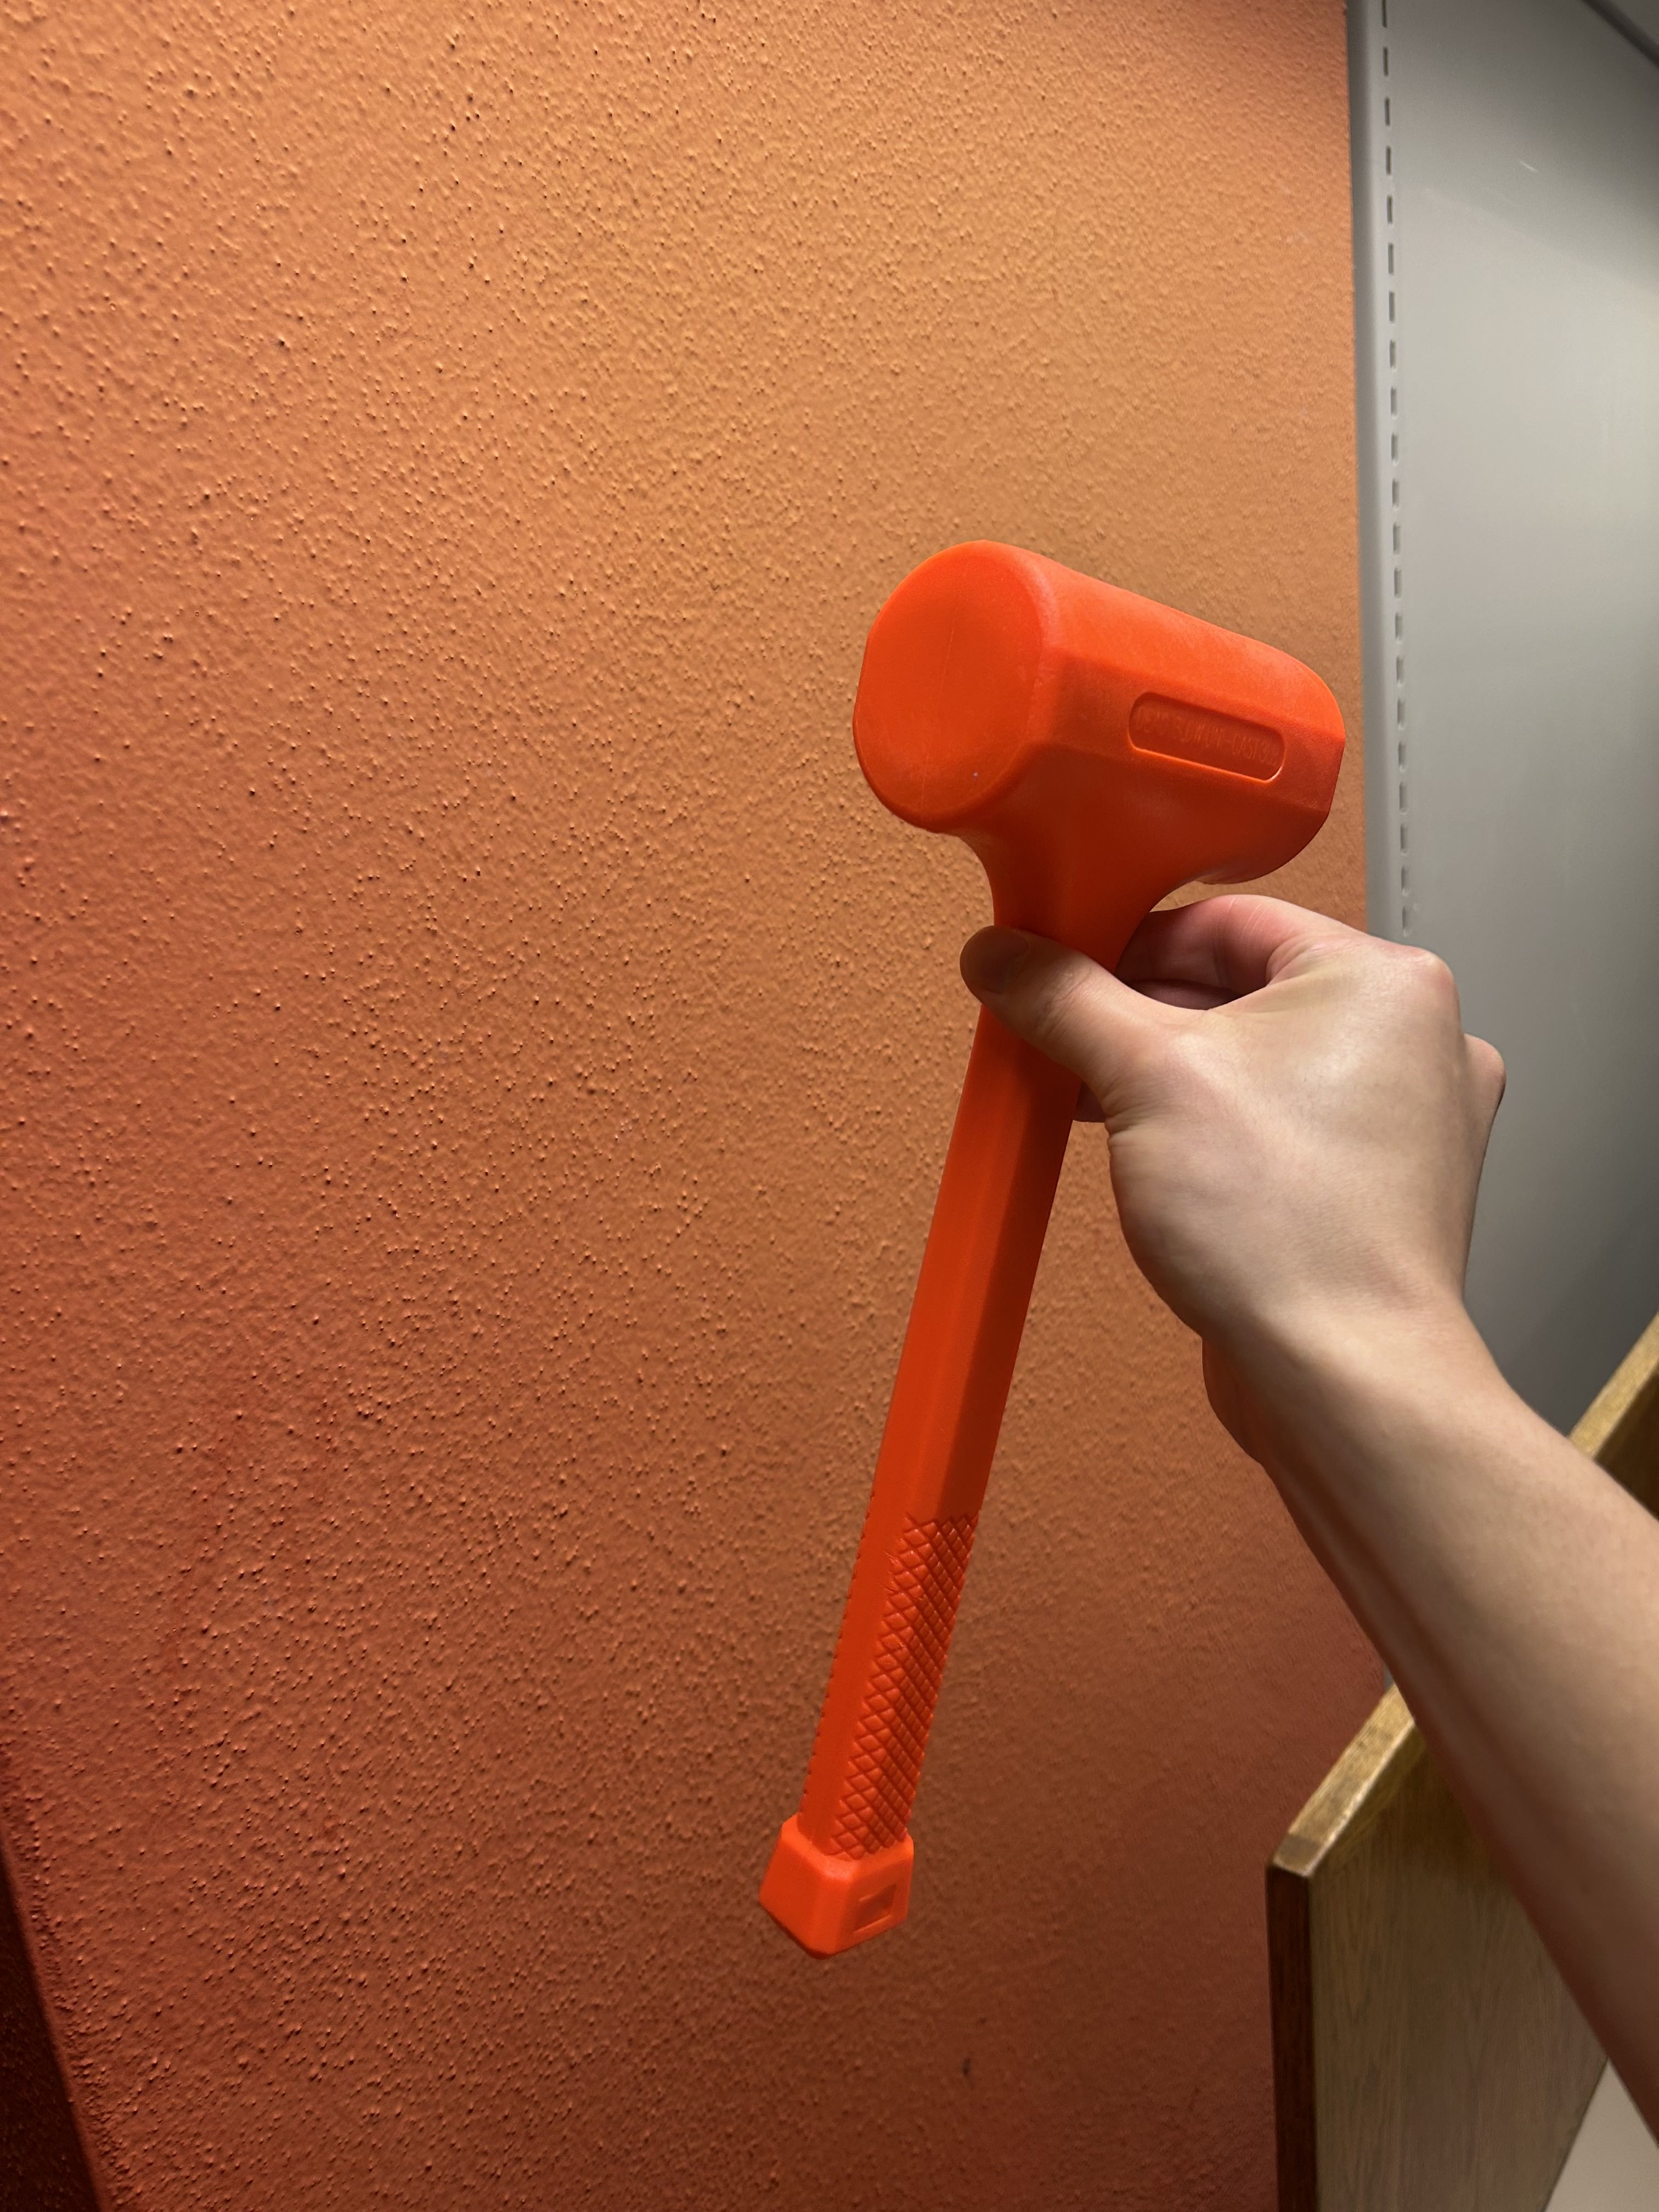Hammer: (714, 491, 1363, 1958)
